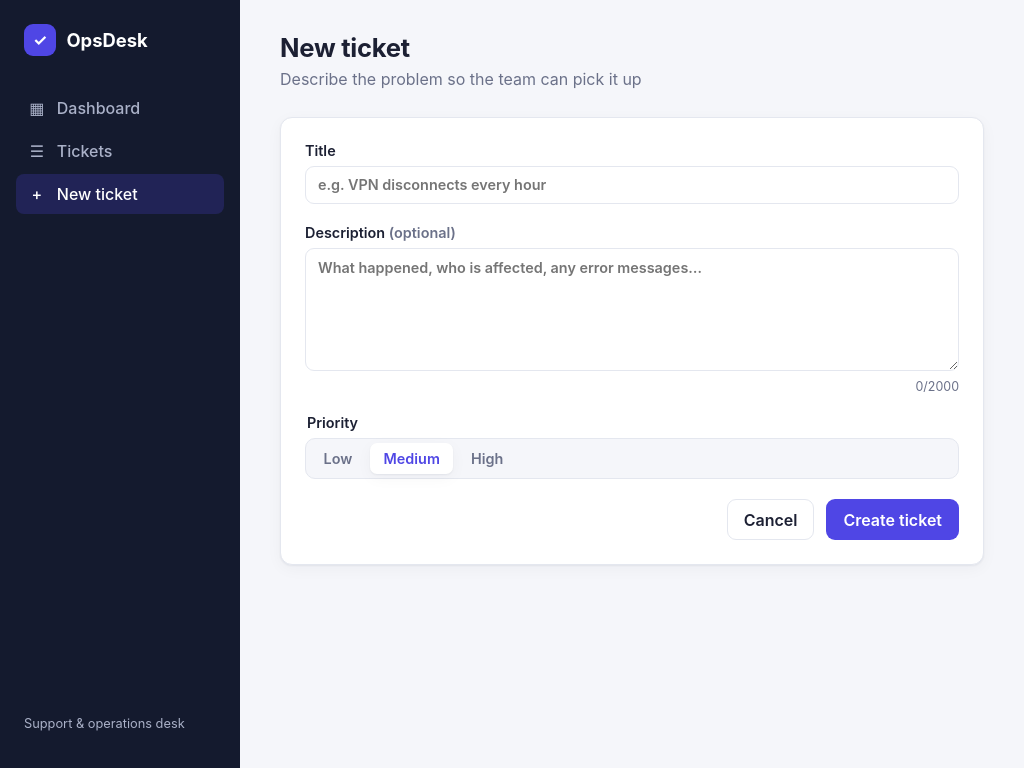
Scenario: New ticket › shows validation details returned by the API
This screenshot has width=1024, height=768.
In the field labelled "Title": (632, 185) [305,166,959,204], type "x"
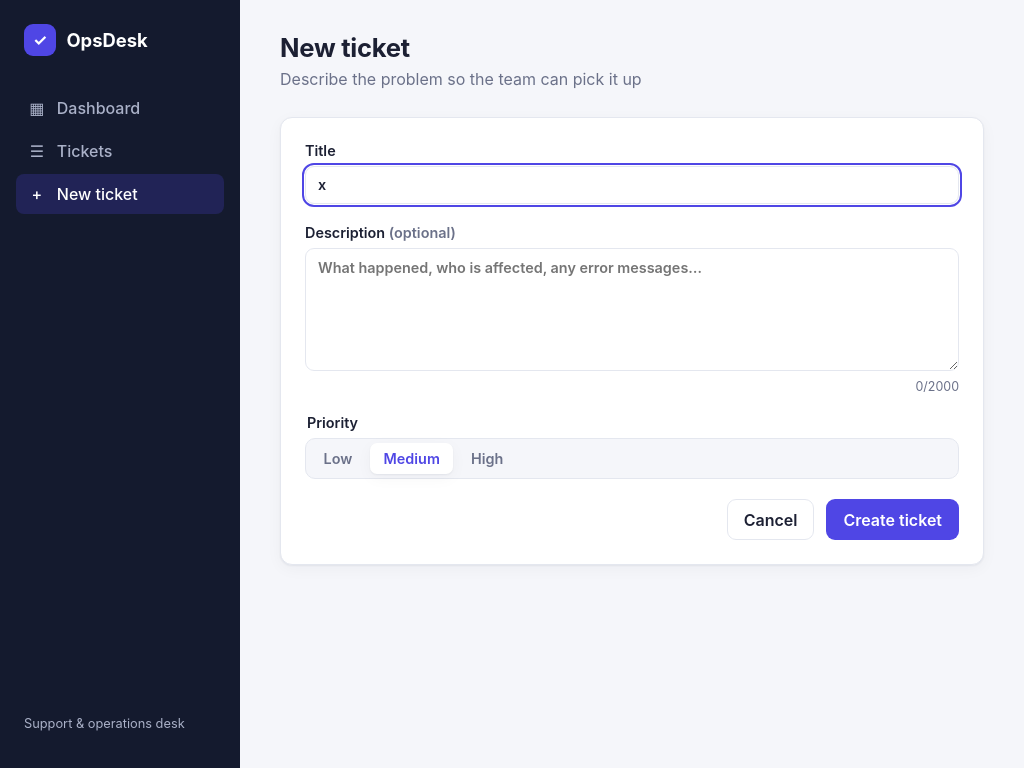
Click the button "Create ticket": (893, 520) [826,499,959,540]
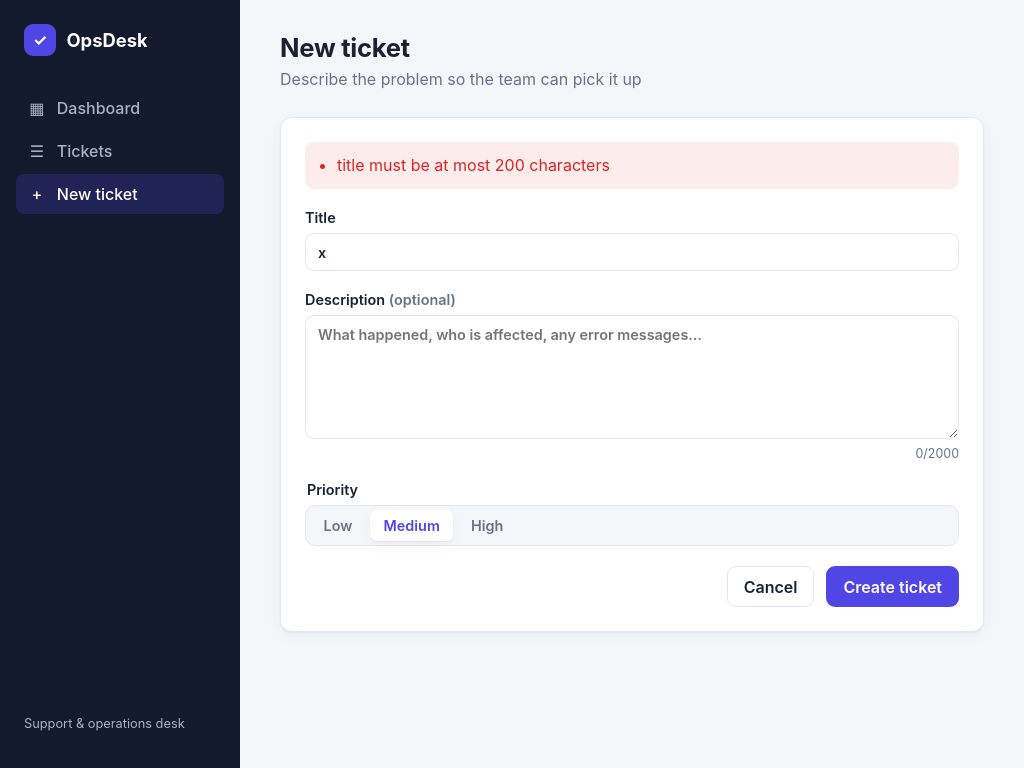
Check: the message reads "title must be at most 200 characters", box [337,155,610,175]
